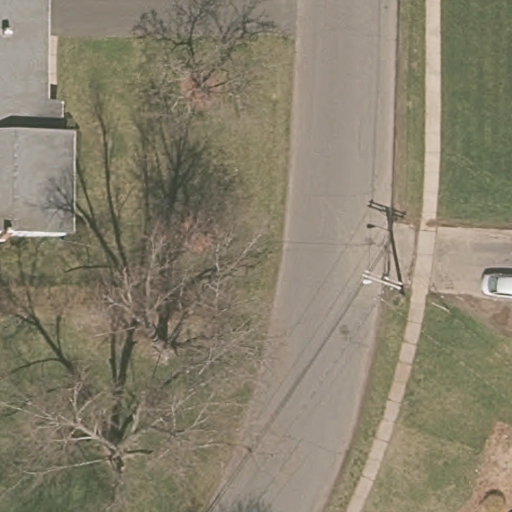DT: (361, 269, 403, 293)
